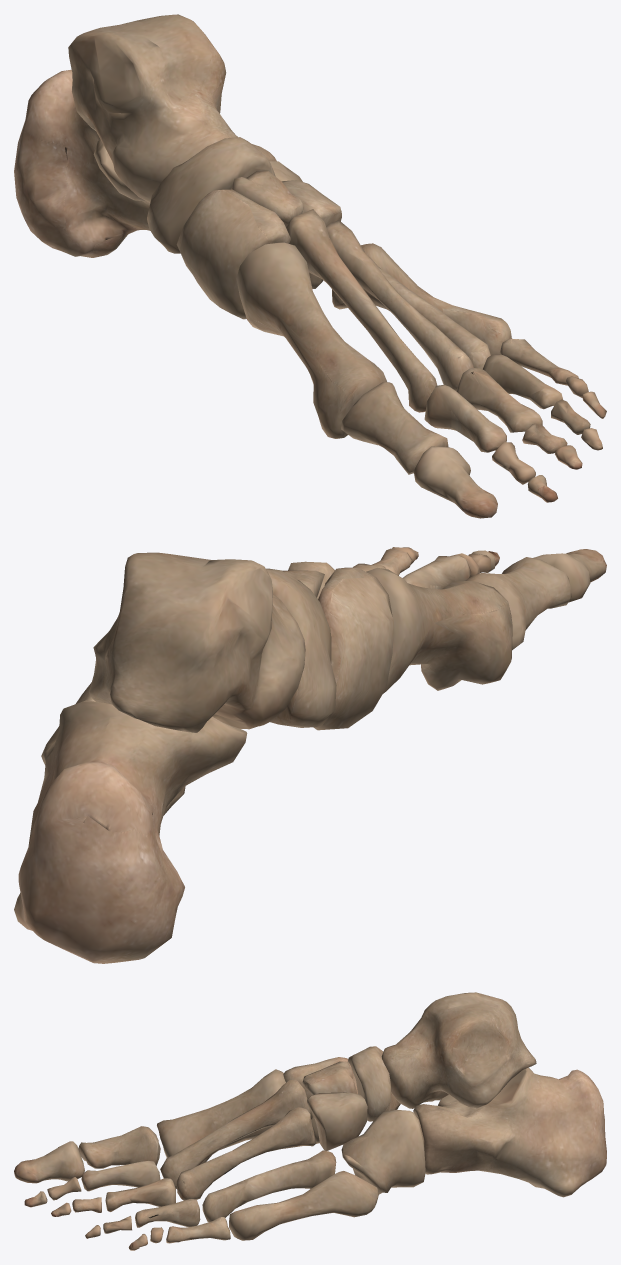
File: Legs.174.obj
3 views of the same model, one above another, from view 1: azimuth 30°, elevation 25°; view 2: azimuth 150°, elevation 25°; view 3: azimuth 270°, elevation 25° (orthographic). The views are drawn at different scales.
Visible parts, largest first — view 1: Legs.174_Arms.174; view 2: Legs.174_Arms.174; view 3: Legs.174_Arms.174.
Boxes of the visible parts, x1,y1,x2,y2 form: Legs.174_Arms.174: (14, 14, 606, 518); Legs.174_Arms.174: (14, 547, 606, 963); Legs.174_Arms.174: (14, 992, 606, 1250).
Bounding box in the file's own units: 0.476 × 0.4567 × 1.33.
